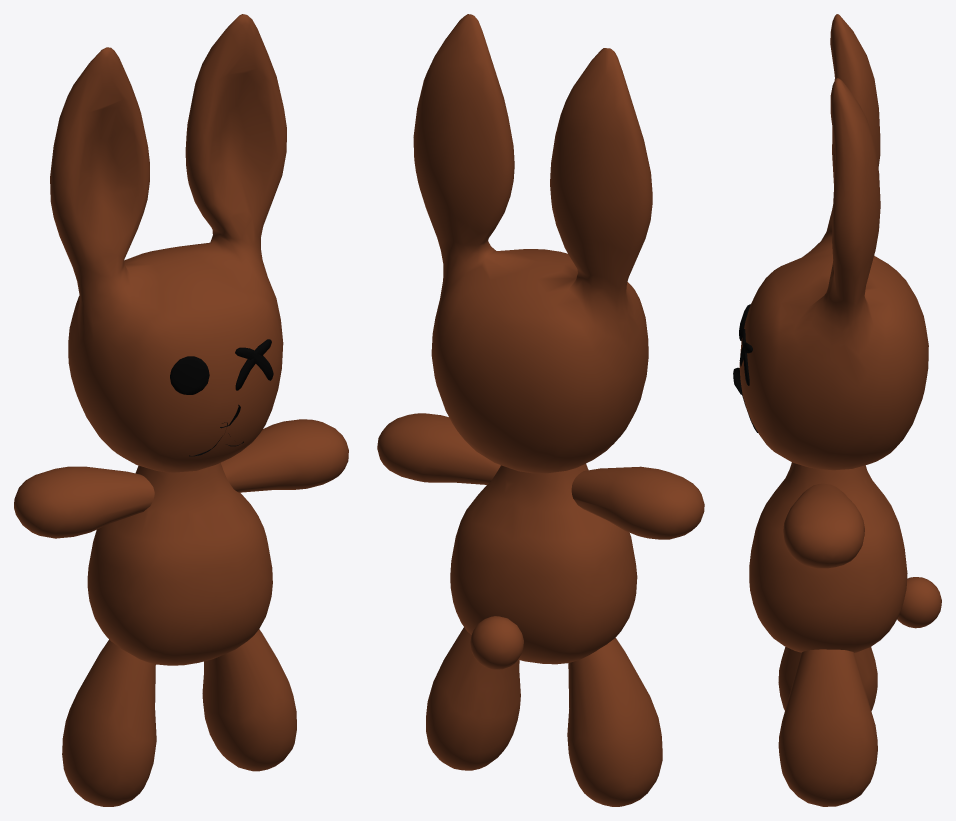
The model's file is bunny2.fbx.
3 renders of one model, left to right at view 1: azimuth 30°, elevation 25°; view 2: azimuth 150°, elevation 25°; view 3: azimuth 270°, elevation 25°, orthographic. The views are drawn at different scales.
Parts seen in each view (by area): view 1: Cube; view 2: Cube; view 3: Cube.
Part boxes in pixels (x1,y1,x2,y2): Cube: (14,14,348,806); Cube: (377,14,704,806); Cube: (733,14,941,806).
Size of the model in its own units: 330 by 743 by 195.
